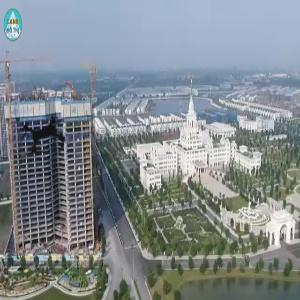drone: (2, 97, 87, 182)
